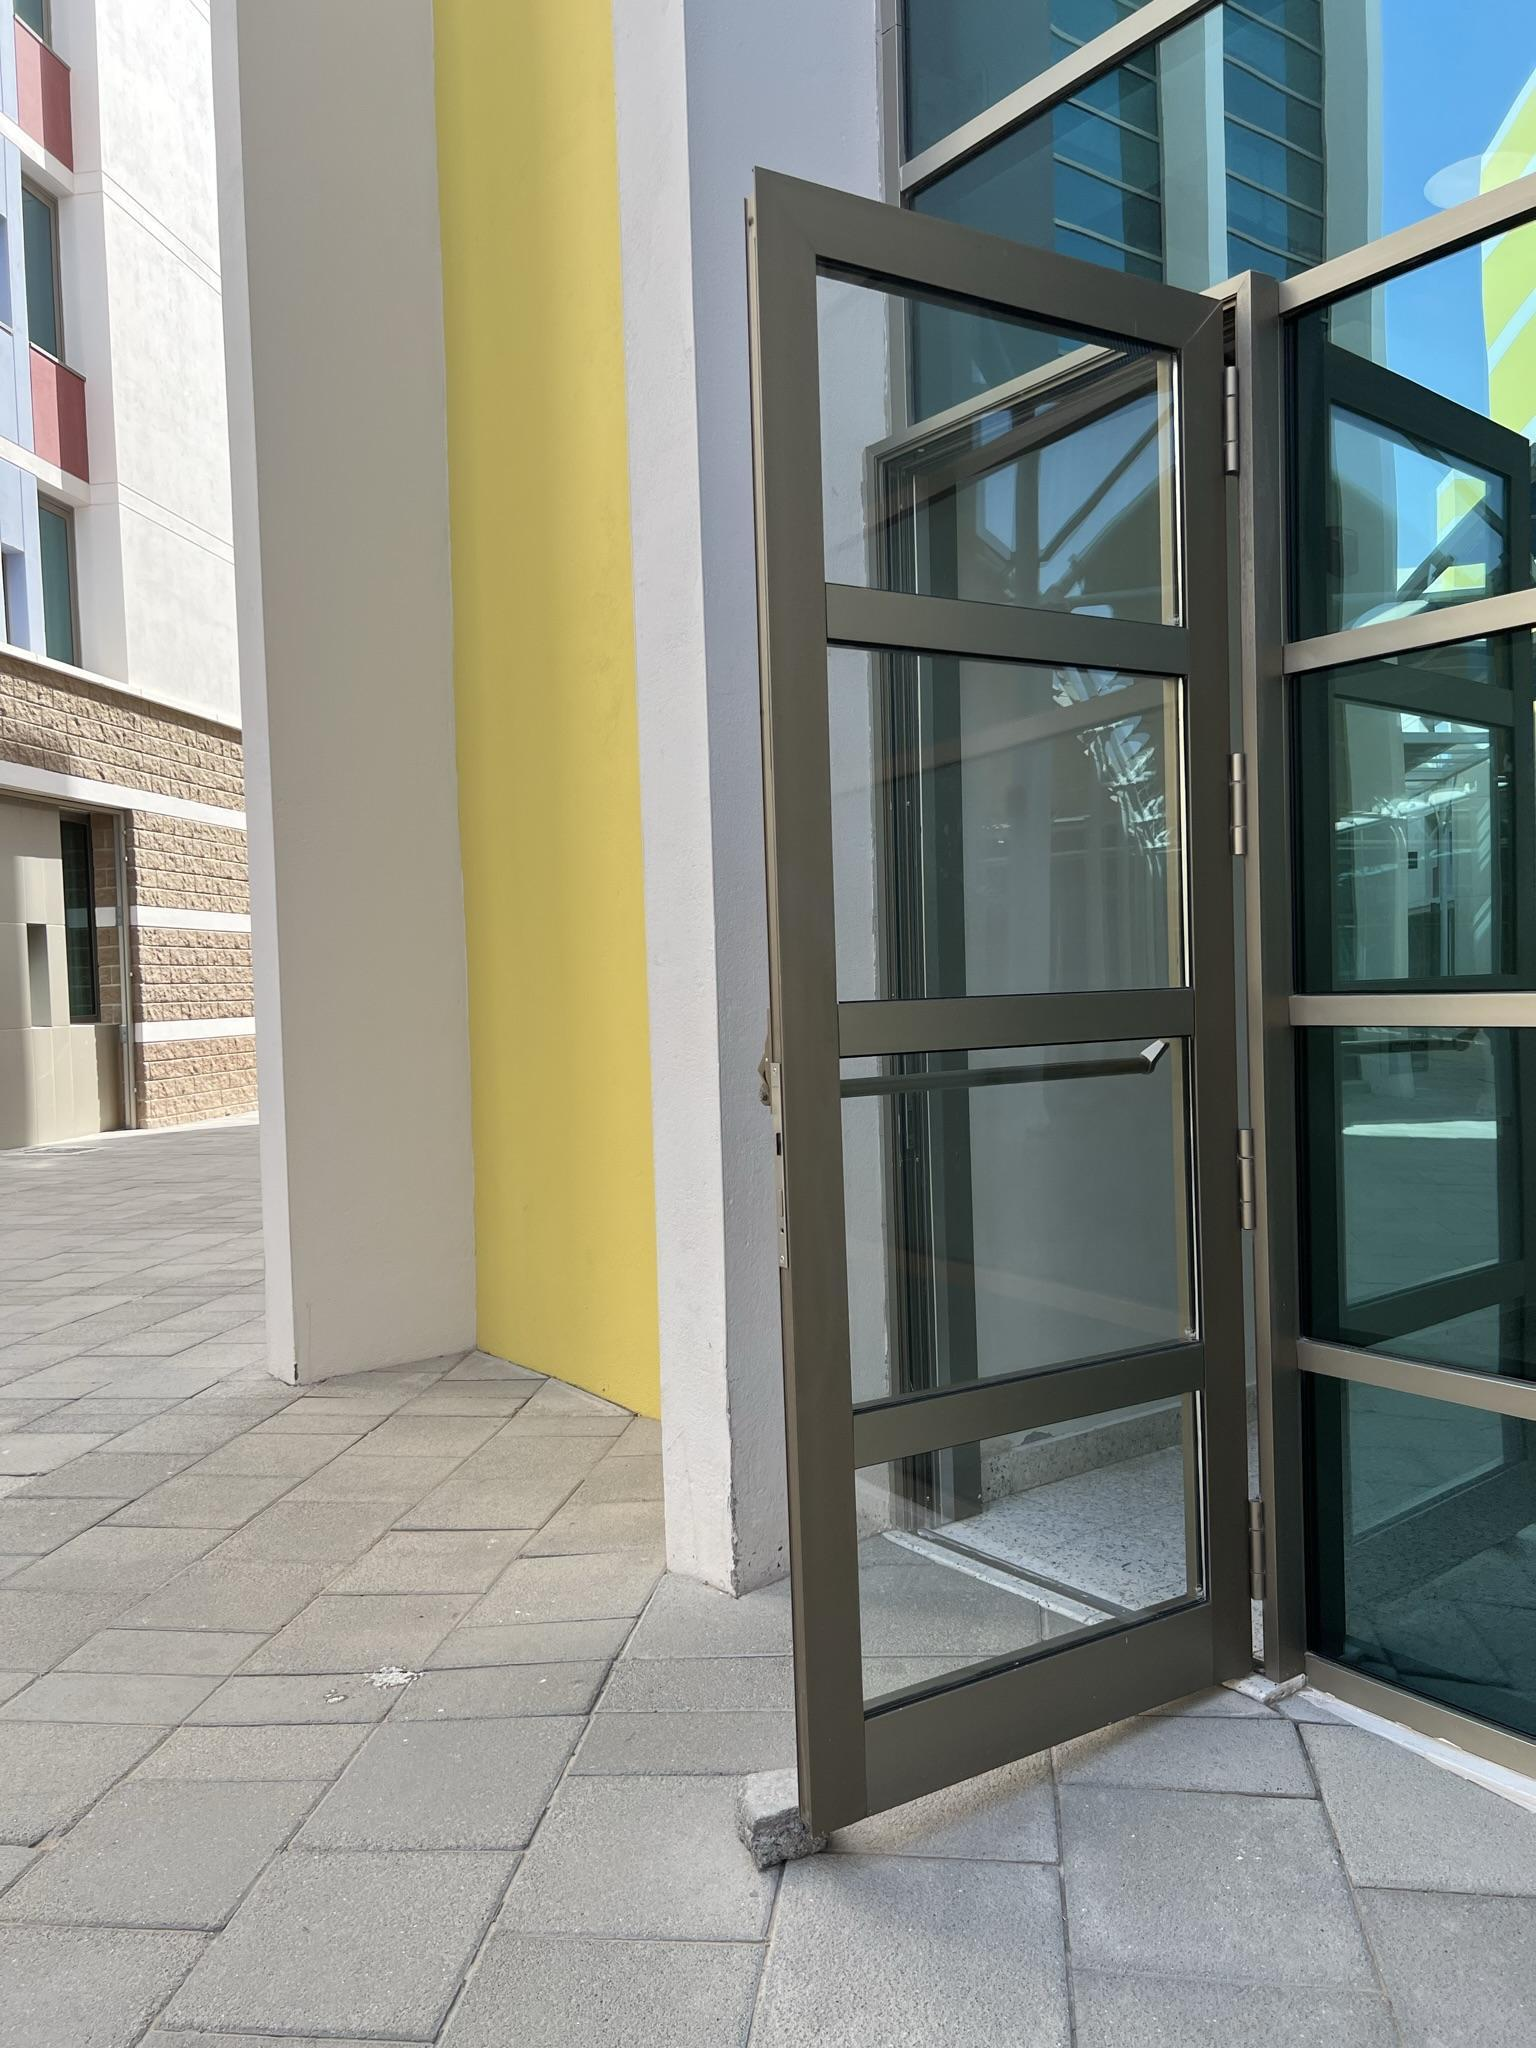door: (752, 166, 1270, 1774)
